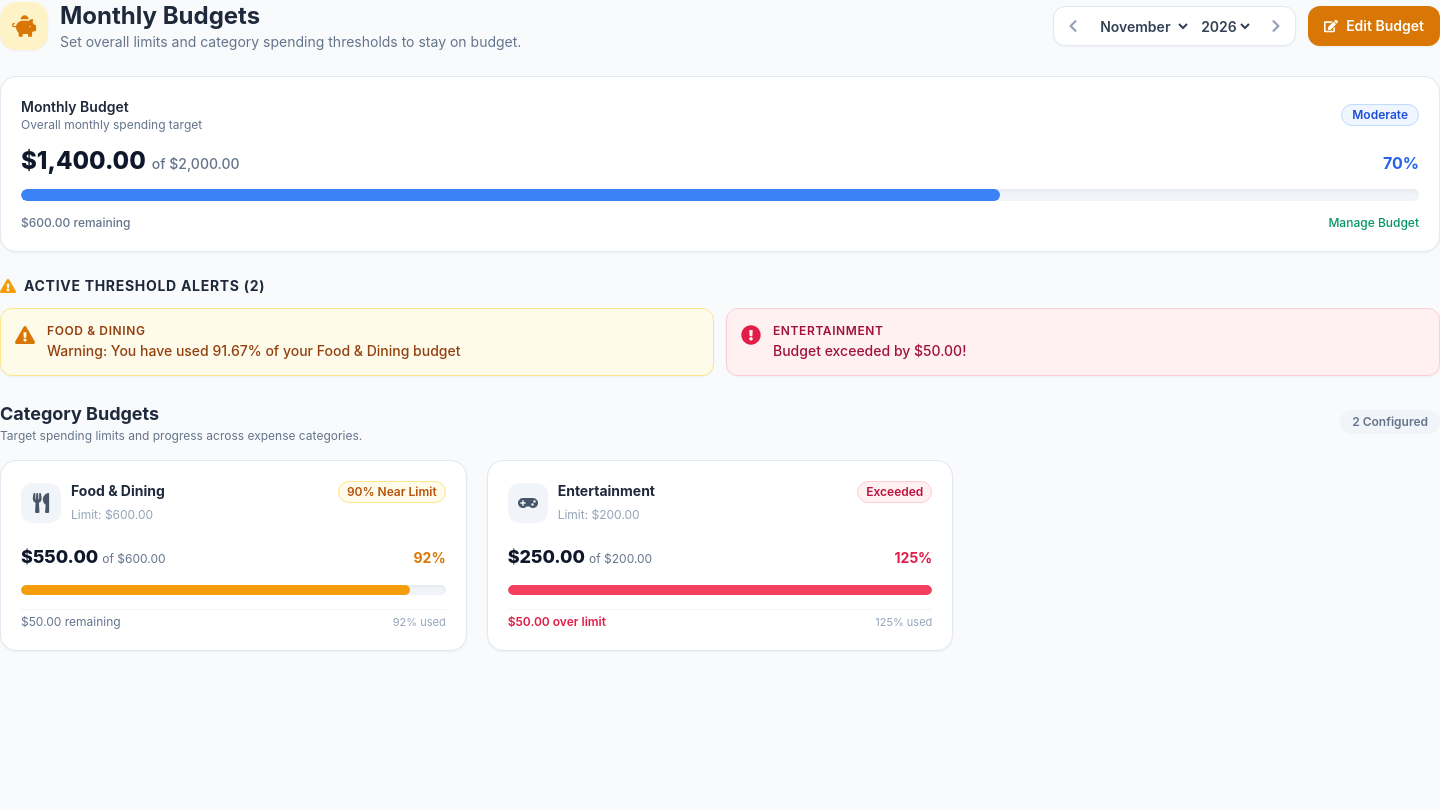
Test: BudgetsPage Component › opens BudgetModal when Set / Edit Budget CTA is clicked
The image size is (1440, 810).
Click the button with test id "set-budget-cta".
click(1374, 26)  # box [1308,6,1439,46]
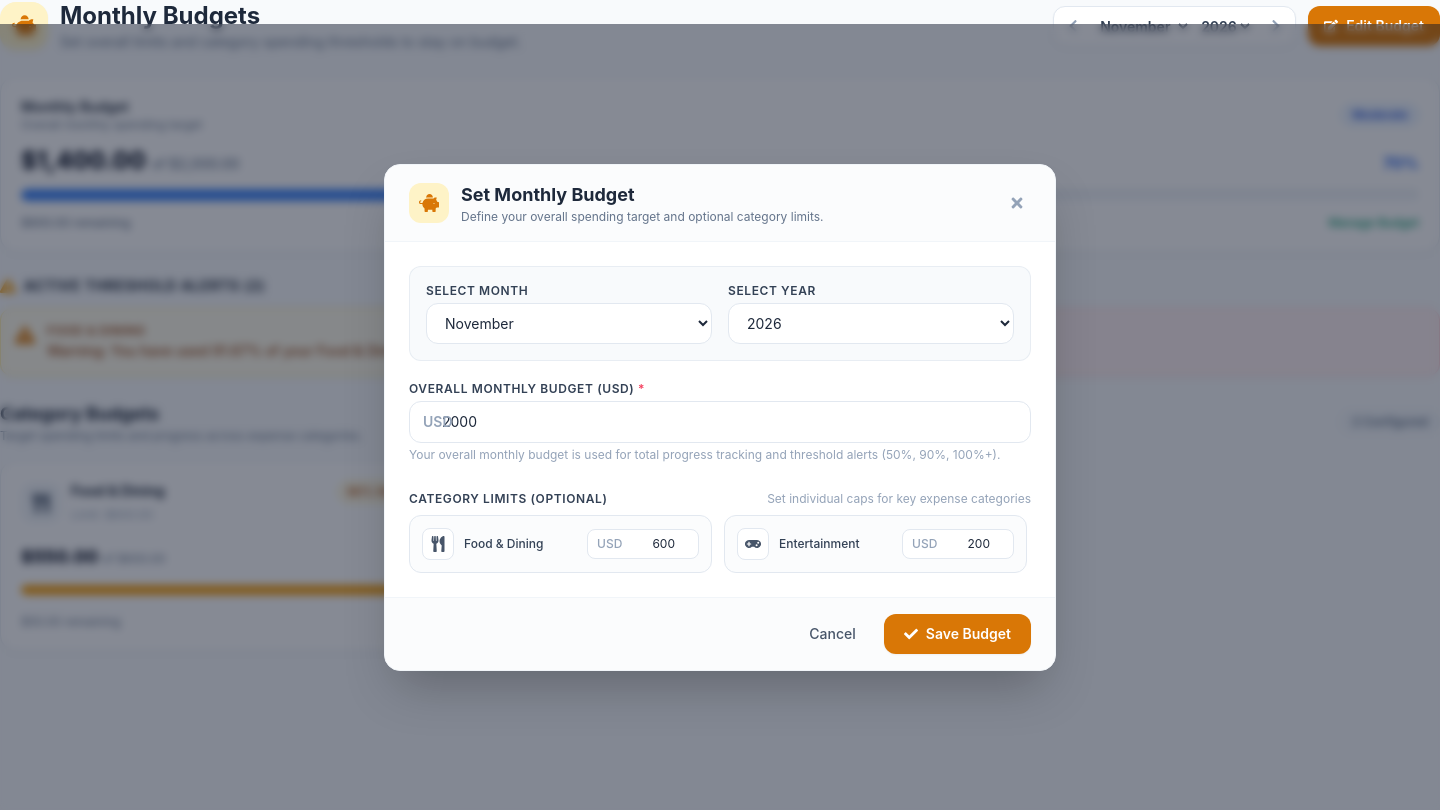
Check: the dialog with test id "budget-modal" is shown
